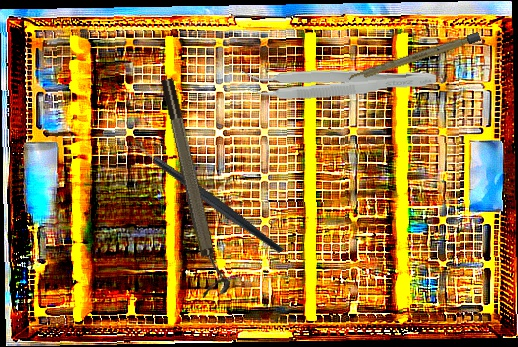Chopper: (122, 105, 285, 294)
Fixation Ring: (157, 75, 232, 298)
Scalpel Handle: (346, 31, 482, 84)
Tissue Forceps: (242, 58, 437, 103)
